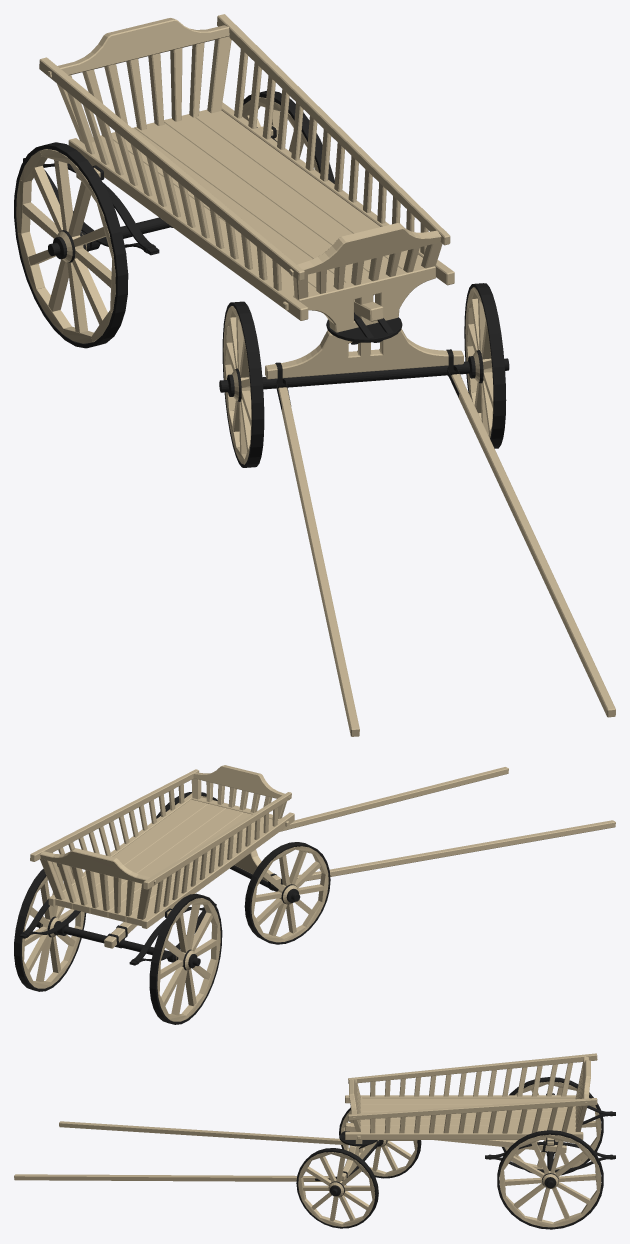
Rendered from farm_wheelbarrow.obj.
3 renders of one model, top to bottom at view 1: azimuth 30°, elevation 25°; view 2: azimuth 150°, elevation 25°; view 3: azimuth 270°, elevation 25°, orthographic. The views are drawn at different scales.
Parts seen in each view (by area): view 1: cart01_cart01_1, cart01_cart01_07_-_Default; view 2: cart01_cart01_1, cart01_cart01_07_-_Default; view 3: cart01_cart01_1, cart01_cart01_07_-_Default.
Part boxes in pixels (<box>): cart01_cart01_1: <box>16,14,615,736</box>; cart01_cart01_07_-_Default: <box>14,90,509,467</box>; cart01_cart01_1: <box>22,765,615,1021</box>; cart01_cart01_07_-_Default: <box>14,792,330,1024</box>; cart01_cart01_1: <box>14,1053,601,1227</box>; cart01_cart01_07_-_Default: <box>296,1077,615,1229</box>.
Size of the model in its own units: 1.5 by 0.8642 by 3.52.
